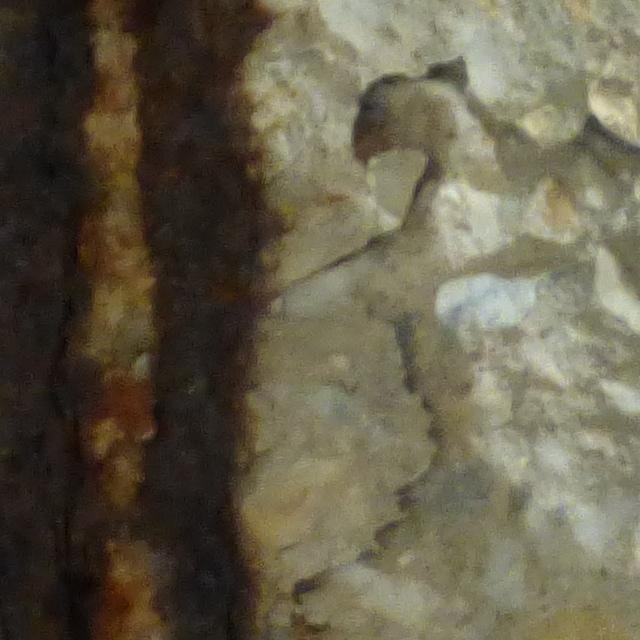Rust: (122, 2, 268, 639), (1, 8, 108, 640)
